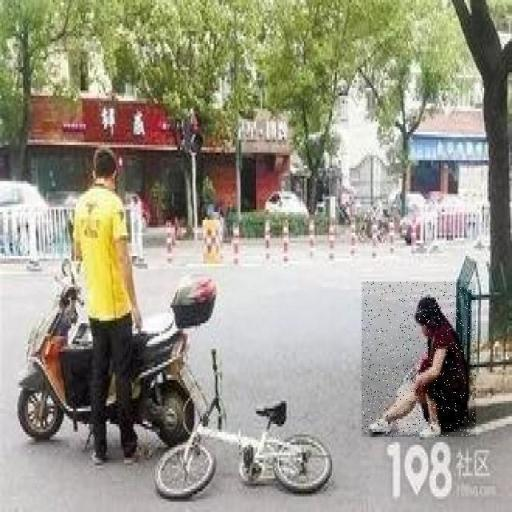Fall: (362, 283, 476, 438)
